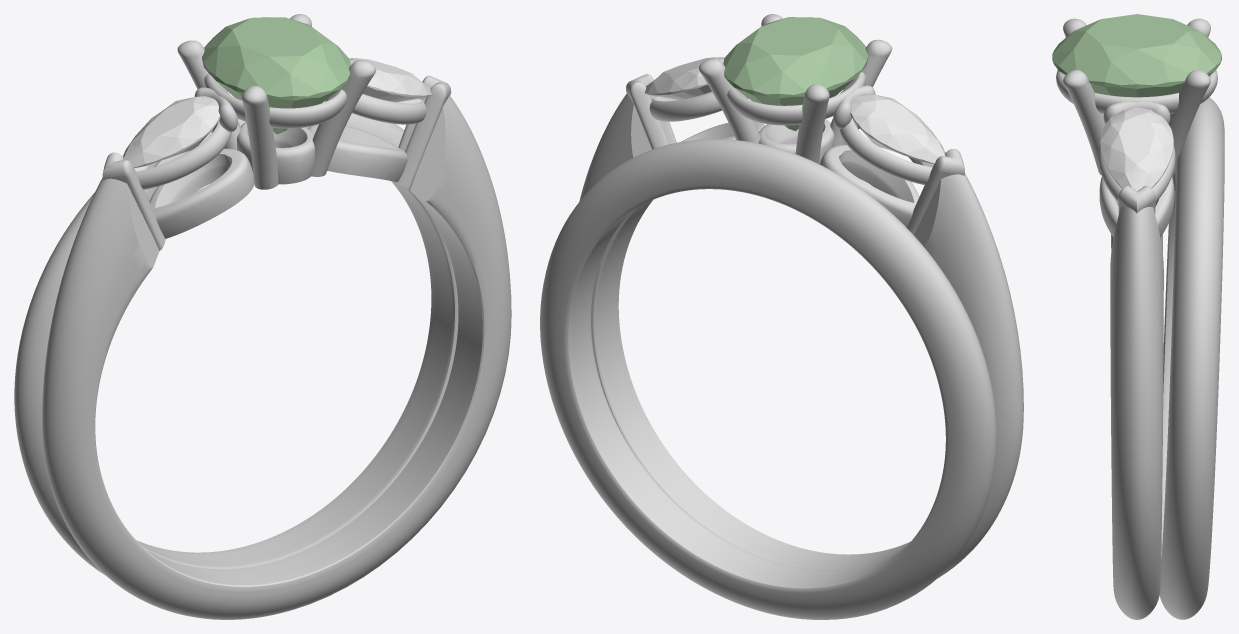
Rendered from Taylor eng + wb.glb.
3 views of the same model, side by side, from view 1: azimuth 30°, elevation 25°; view 2: azimuth 150°, elevation 25°; view 3: azimuth 270°, elevation 25° (orthographic). The views are drawn at different scales.
Visible parts, largest first — view 1: Taylor PT for 3d model, Taylor tourmaline for 3d model, Taylor dia for 3d model.001, Taylor dia for 3d model; view 2: Taylor PT for 3d model, Taylor tourmaline for 3d model, Taylor dia for 3d model.001, Taylor dia for 3d model; view 3: Taylor PT for 3d model, Taylor tourmaline for 3d model, Taylor dia for 3d model.
Part boxes in pixels (x1,y1,x2,y2): Taylor PT for 3d model: [14, 14, 511, 619]; Taylor tourmaline for 3d model: [202, 17, 350, 134]; Taylor dia for 3d model.001: [123, 96, 220, 168]; Taylor dia for 3d model: [349, 58, 431, 102]; Taylor PT for 3d model: [540, 14, 1023, 619]; Taylor tourmaline for 3d model: [723, 17, 868, 131]; Taylor dia for 3d model.001: [850, 94, 945, 163]; Taylor dia for 3d model: [644, 57, 724, 99]; Taylor PT for 3d model: [1056, 18, 1224, 619]; Taylor tourmaline for 3d model: [1052, 14, 1221, 97]; Taylor dia for 3d model: [1100, 107, 1173, 190].
Size of the model in its own units: 21.57 by 25.51 by 7.08.
